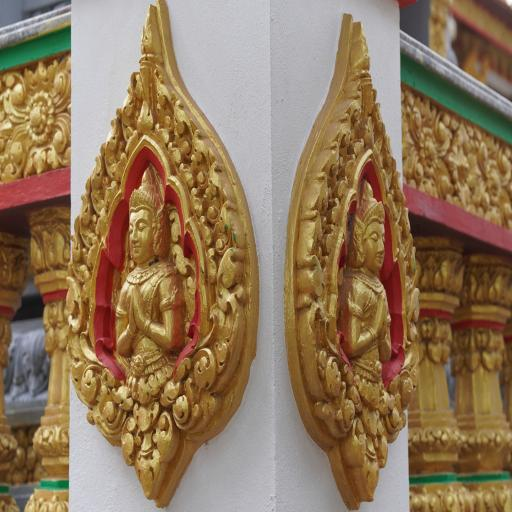hoa: (4, 64, 78, 170), (398, 73, 460, 199), (452, 113, 512, 222)
than: (328, 176, 412, 420), (106, 160, 190, 392)
